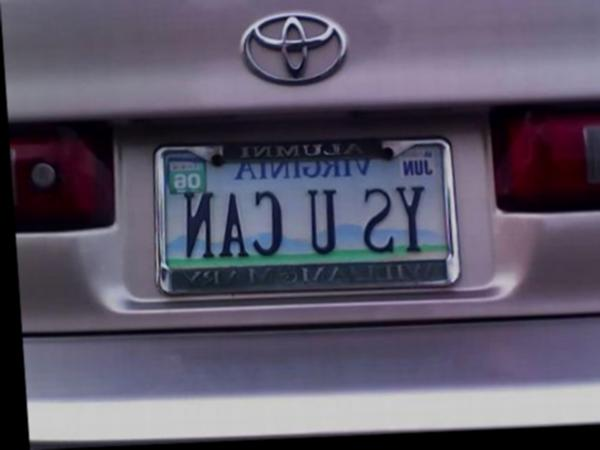License_Plate: (150, 137, 455, 297)
